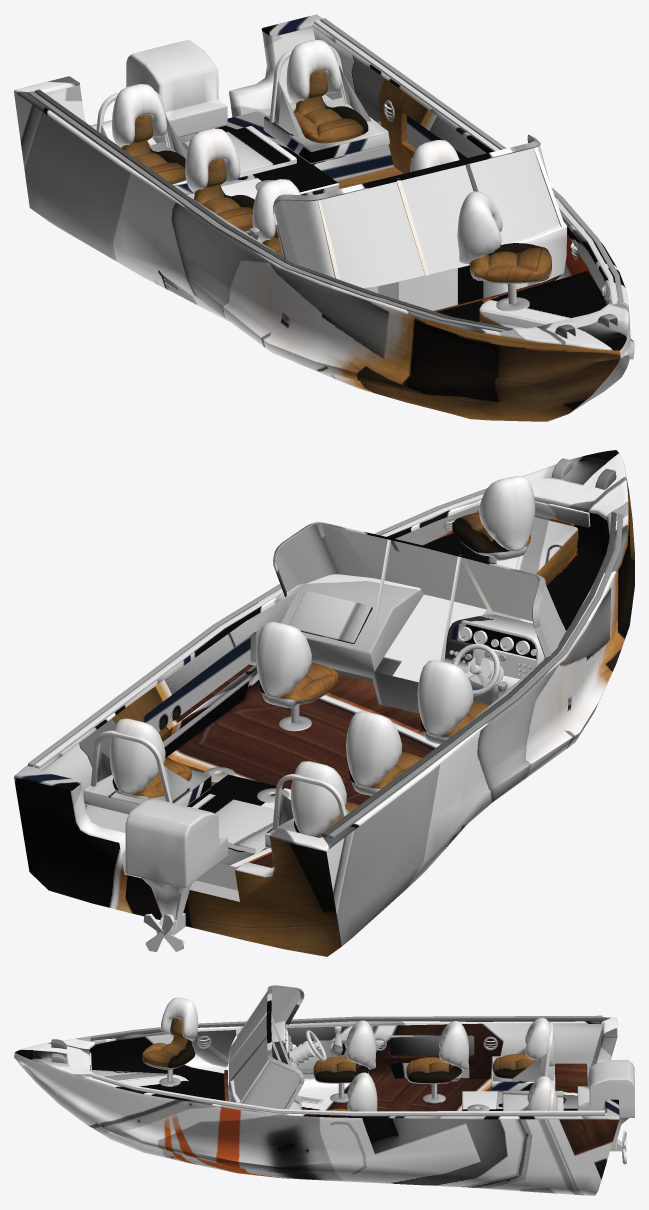
Rendered from boat.dae.
3 renders of one model, top to bottom at view 1: azimuth 30°, elevation 25°; view 2: azimuth 150°, elevation 25°; view 3: azimuth 270°, elevation 25°, orthographic. The views are drawn at different scales.
Parts seen in each view (by area): view 1: motorboat, glass, engine; view 2: motorboat, glass, engine, steer_wheel, windmill; view 3: motorboat, glass, engine, steer_wheel.
Boxes of the visible parts, box(x1,y1,x2,y2) form: motorboat: box(14, 14, 634, 421); glass: box(274, 140, 559, 287); engine: box(126, 39, 227, 137); motorboat: box(14, 450, 634, 956); glass: box(275, 524, 565, 653); engine: box(125, 799, 227, 935); steer_wheel: box(452, 643, 500, 696); windmill: box(143, 913, 184, 952); motorboat: box(14, 985, 619, 1195); glass: box(229, 986, 300, 1108); engine: box(577, 1059, 634, 1151); steer_wheel: box(305, 1030, 326, 1061).
Size of the model in its own units: 6.71 by 17.17 by 4.77.
